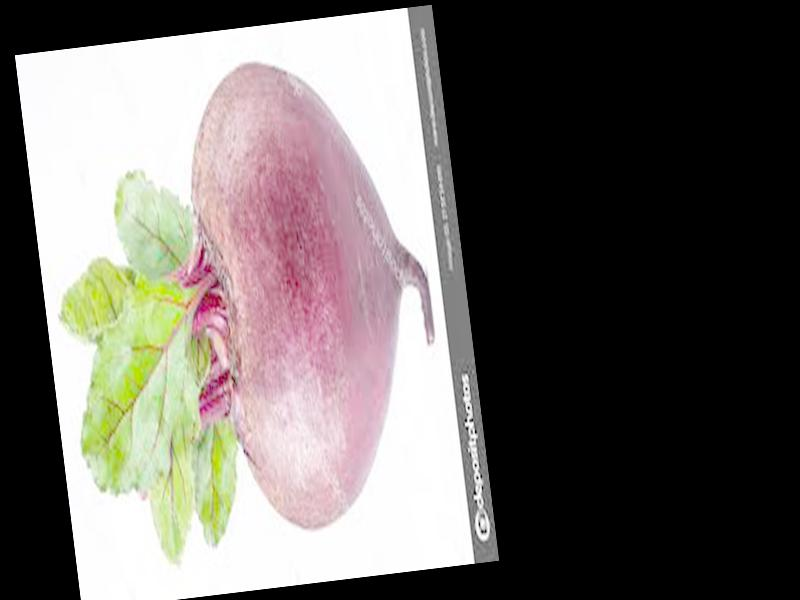Beet: (32, 44, 456, 574)
